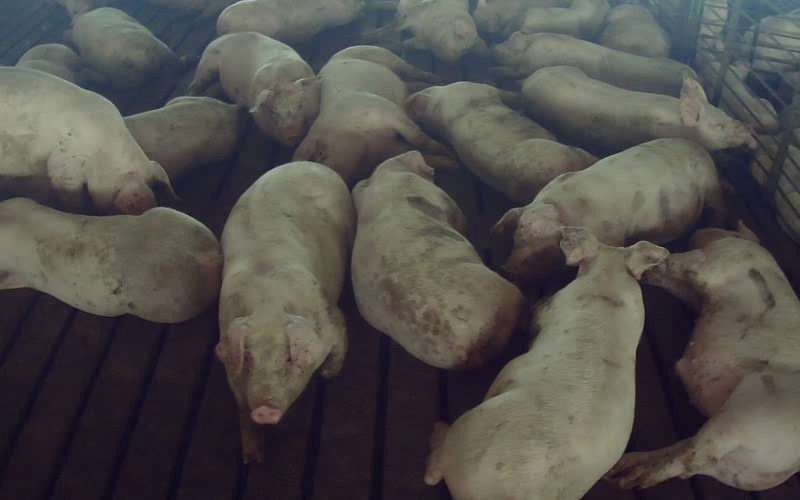pig: (426, 228, 667, 499), (608, 229, 799, 489), (217, 162, 354, 461), (351, 151, 521, 368), (498, 139, 721, 284), (406, 82, 595, 202), (293, 46, 448, 183), (523, 66, 754, 152), (190, 33, 320, 144), (494, 32, 696, 96), (72, 7, 175, 87), (369, 0, 478, 63)
